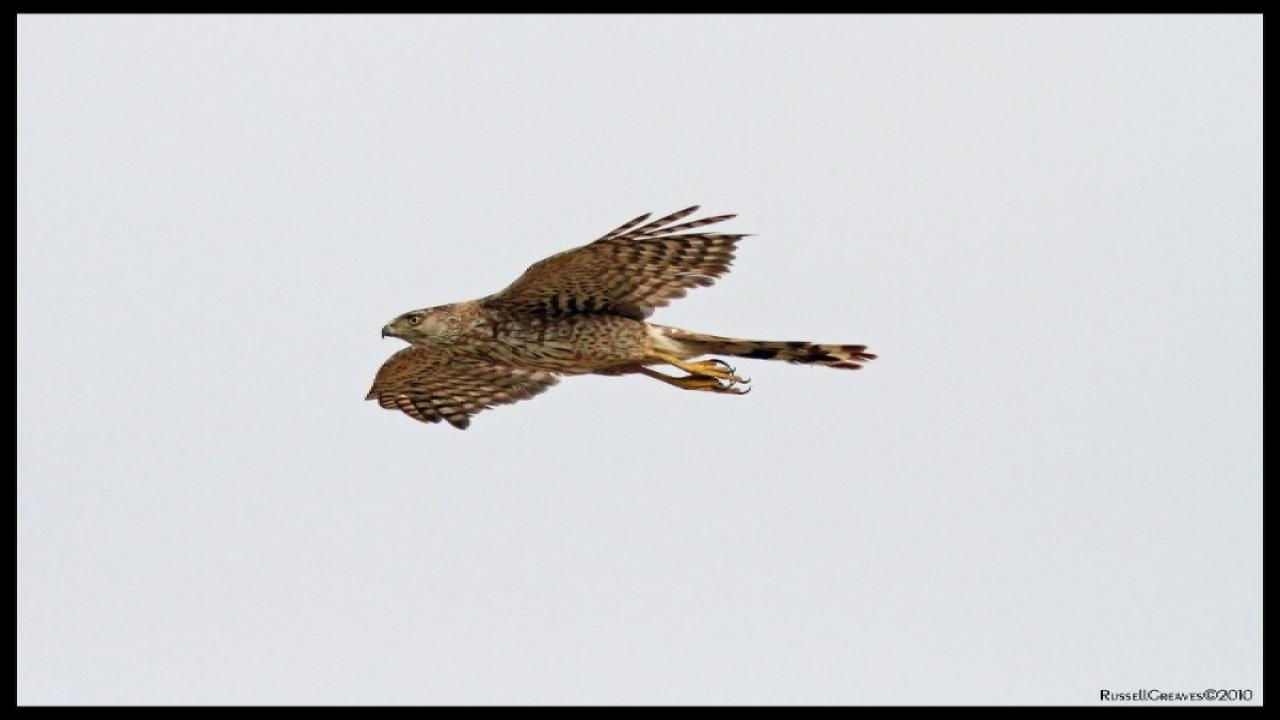Bird: (348, 200, 876, 440)
